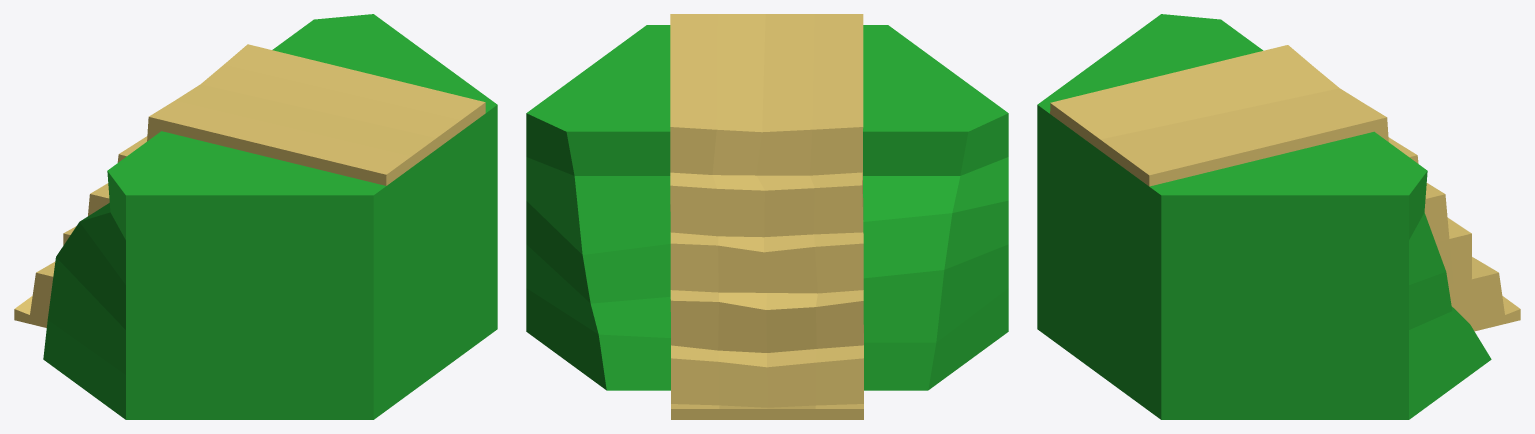
The model's file is cliff-big-stairs_corner.glb.
3 renders of one model, left to right at view 1: azimuth 30°, elevation 25°; view 2: azimuth 150°, elevation 25°; view 3: azimuth 270°, elevation 25°, orthographic. The views are drawn at different scales.
Visible parts, largest first — view 1: cliff-big-stairs_corner; view 2: cliff-big-stairs_corner; view 3: cliff-big-stairs_corner.
Boxes of the visible parts, x1,y1,x2,y2 form: cliff-big-stairs_corner: (14, 14, 497, 419); cliff-big-stairs_corner: (526, 14, 1008, 419); cliff-big-stairs_corner: (1037, 14, 1520, 419).
Bounding box in the file's own units: 0.8705 × 0.525 × 0.975.
